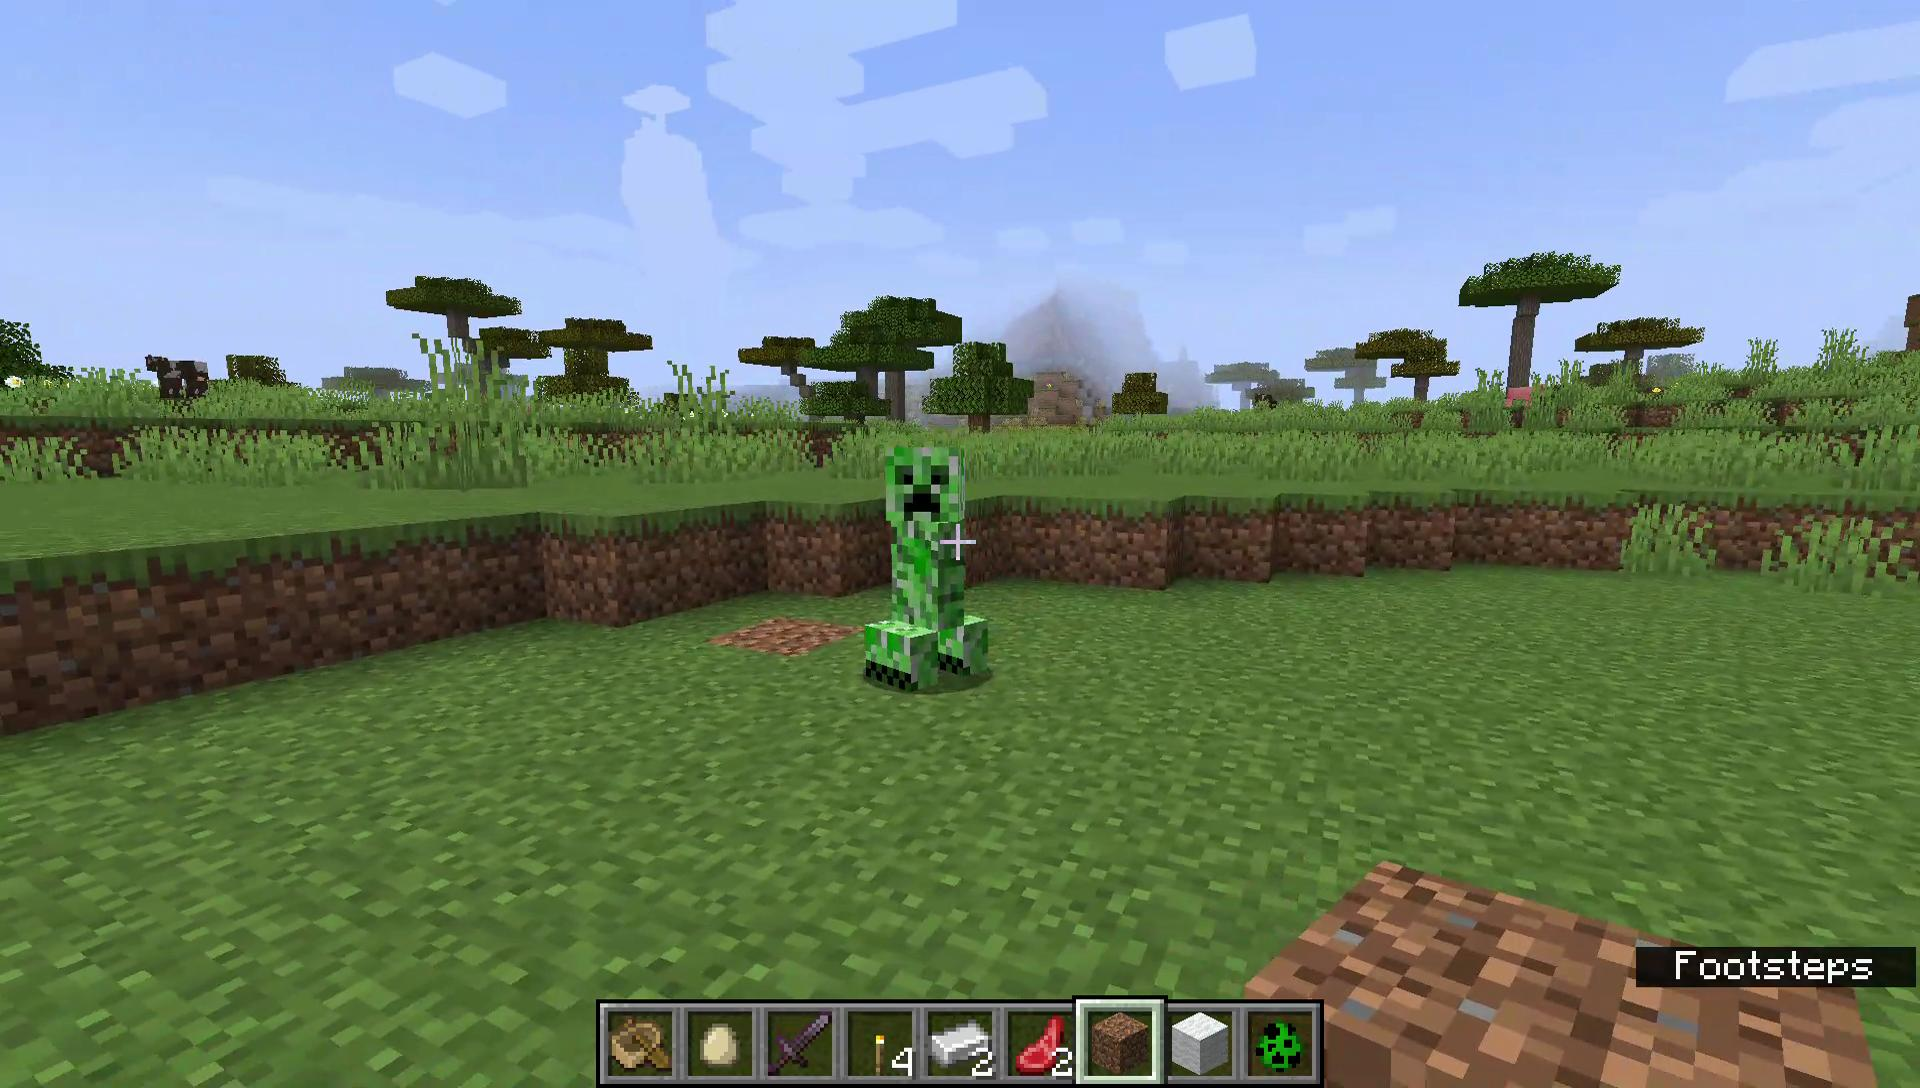cow: (142, 348, 216, 411), (1254, 390, 1280, 414)
creeper: (855, 440, 996, 700)
pig: (1503, 385, 1547, 410)
